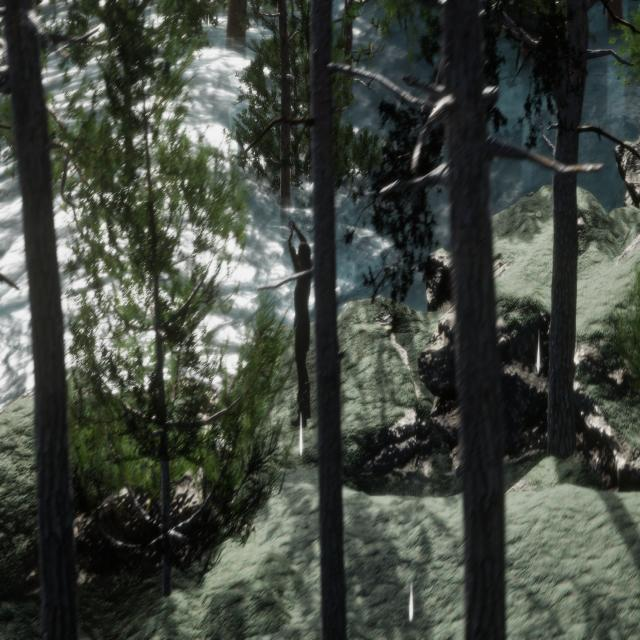Human: (280, 213, 320, 448)
